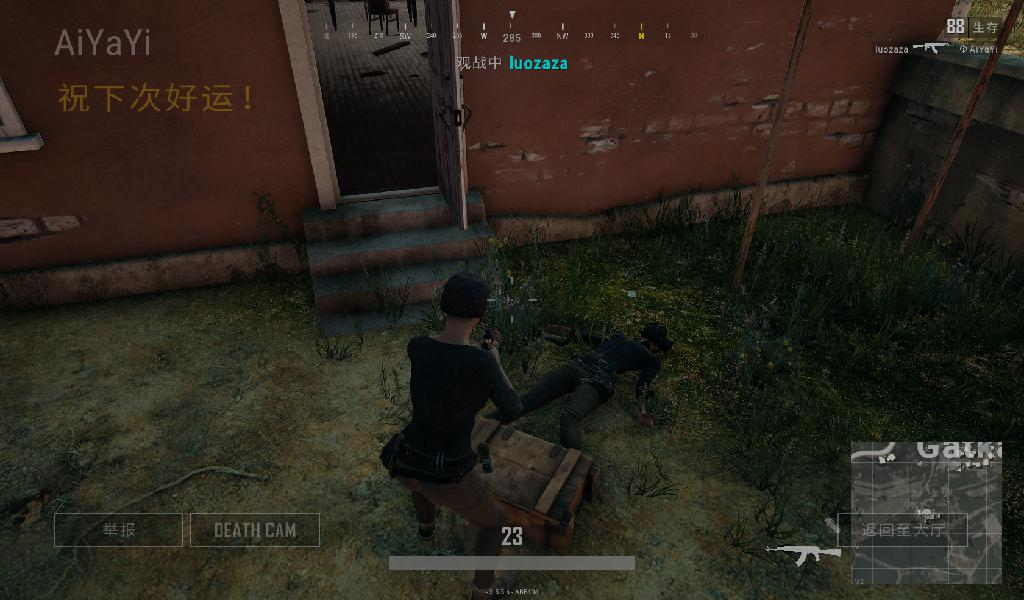Target Person: (381, 271, 518, 600), (471, 315, 675, 458)
